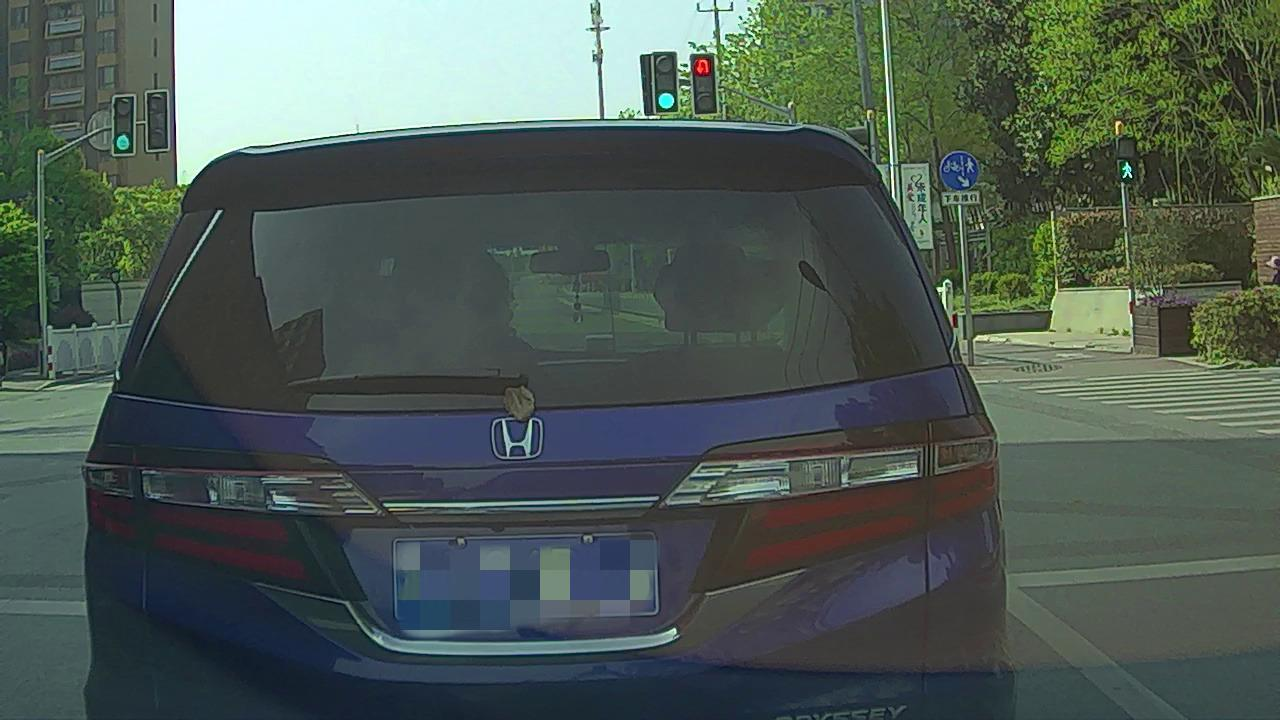traffic_light: (653, 52, 679, 111), (692, 54, 715, 112)
